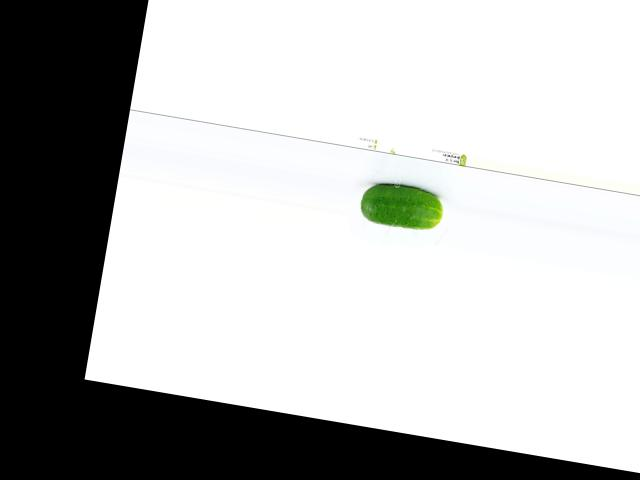cucumber: (357, 178, 445, 233)
